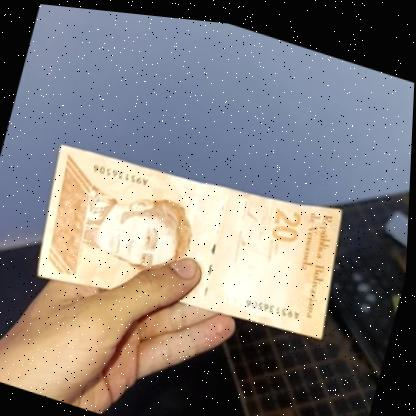twenty-front-vef: (27, 116, 358, 352)
